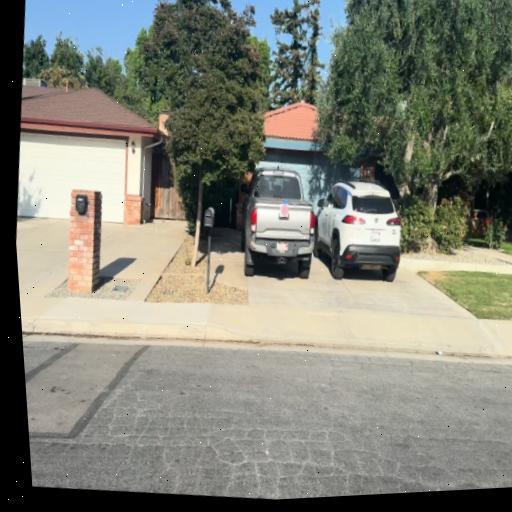bullseye: (281, 204, 288, 217)
